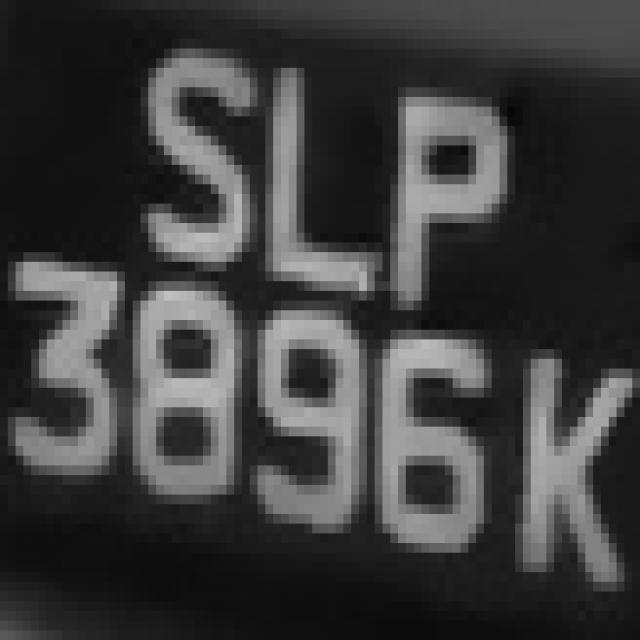3: (8, 223, 117, 495)
6: (374, 310, 500, 592)
8: (125, 262, 273, 533)
9: (234, 282, 375, 562)
K: (508, 329, 632, 592)
L: (234, 29, 383, 320)
P: (367, 48, 538, 320)
S: (133, 29, 242, 281)
